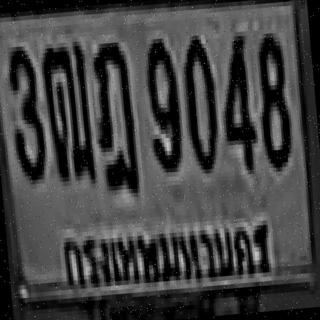A14: (89, 38, 137, 191)
A18: (40, 39, 92, 180)
N00: (178, 30, 218, 170)
N03: (5, 41, 45, 181)
N04: (216, 31, 256, 172)
N08: (252, 28, 290, 168)
N09: (142, 33, 182, 169)
P04: (49, 201, 281, 302)
